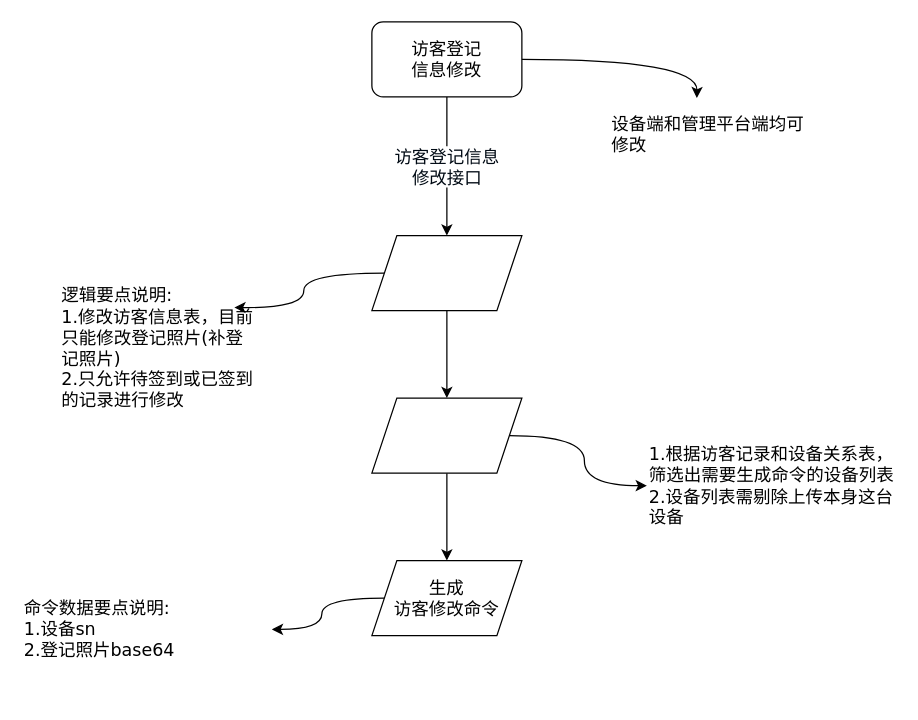
Image size: 918x720. Some labels were removed from this diagram. The box of each missing label's shape, as (x1, y1, x2, y2) in pixels:
访客下发规则解析: (371, 397, 522, 473)
访客登记信息 修改逻辑: (371, 234, 522, 311)
